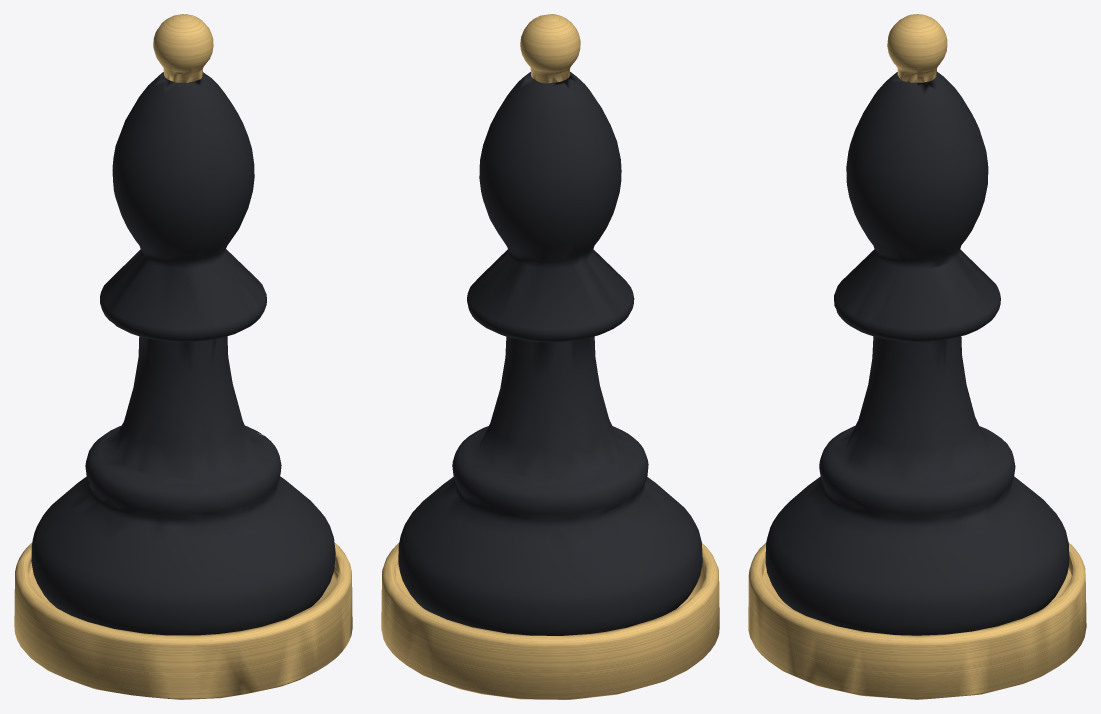
Rendered from bishop-black.glb.
The picture shows the model from 3 angles, left to right: view 1: azimuth 30°, elevation 25°; view 2: azimuth 150°, elevation 25°; view 3: azimuth 270°, elevation 25°; orthographic projection.
Parts seen in each view (by area): view 1: Aurum Noir – Bishop; view 2: Aurum Noir – Bishop; view 3: Aurum Noir – Bishop.
Boxes of the visible parts, <box> form: Aurum Noir – Bishop: <box>14,14,352,699</box>; Aurum Noir – Bishop: <box>381,14,719,699</box>; Aurum Noir – Bishop: <box>748,14,1086,699</box>.
Size of the model in its own units: 0.6607 by 1.32 by 0.6604.
Materials: 2 (1 with a texture image).
